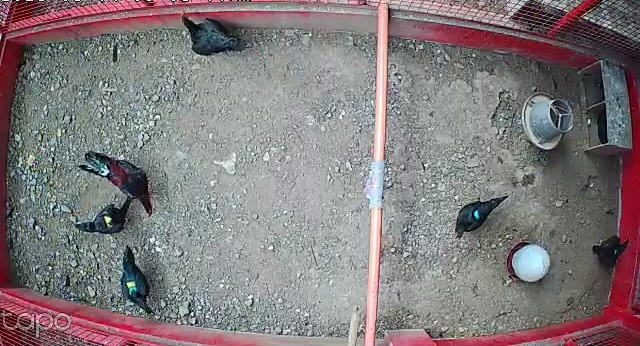Chicken: (179, 9, 243, 56), (453, 191, 509, 242), (117, 244, 156, 316), (72, 197, 134, 237), (589, 234, 631, 268)
Rooster: (78, 147, 158, 218)
Saddle_Color_Blue: (473, 210, 480, 221)
Saddle_Color_Green: (614, 249, 617, 254)
Saddle_Color_Yellow: (104, 214, 113, 227)
Saddle_Color_YellowGreen: (127, 280, 137, 294)
